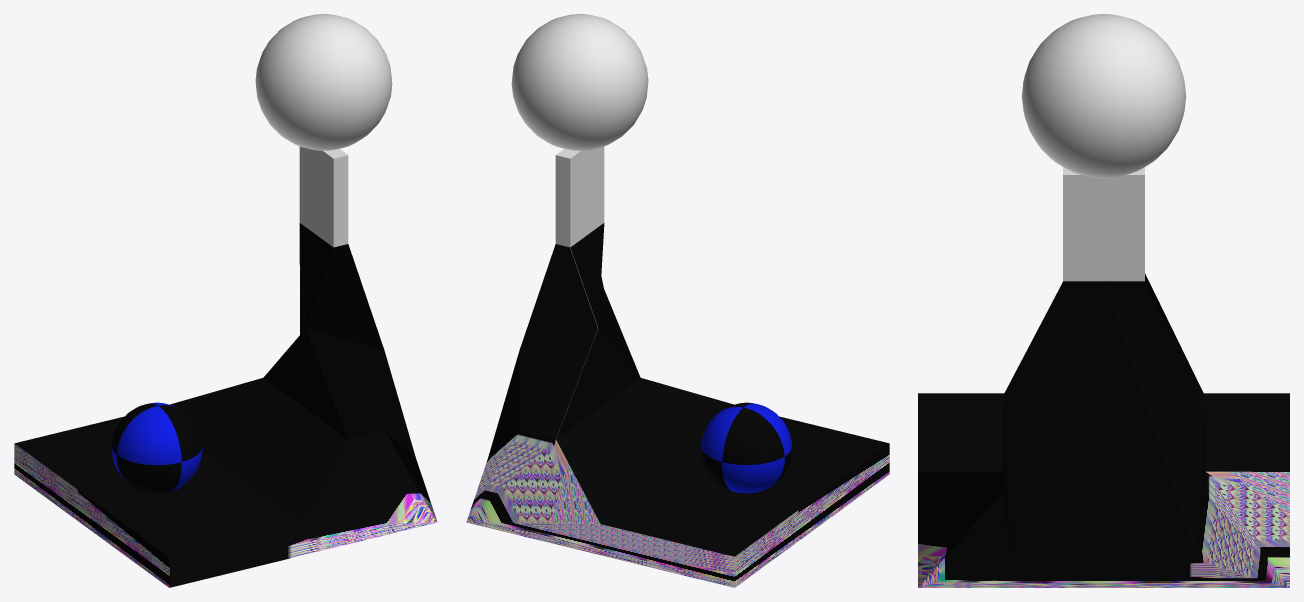
The model's file is Structure.fbx.
3 renders of one model, left to right at view 1: azimuth 30°, elevation 25°; view 2: azimuth 150°, elevation 25°; view 3: azimuth 270°, elevation 25°, orthographic. The views are drawn at different scales.
Visible parts, largest first — view 1: Cube, Sphere.001, Sphere, Cube.001; view 2: Cube, Sphere.001, Sphere, Cube.001; view 3: Cube, Sphere.001, Cube.001.
Boxes of the visible parts, box(x1,y1,x2,y2) form: Cube: box(14, 223, 437, 587); Sphere.001: box(255, 14, 392, 150); Sphere: box(111, 402, 202, 493); Cube.001: box(299, 146, 348, 247); Cube: box(466, 223, 889, 587); Sphere.001: box(511, 14, 648, 150); Sphere: box(701, 402, 792, 493); Cube.001: box(555, 146, 604, 247); Cube: box(918, 273, 1289, 587); Sphere.001: box(1021, 14, 1186, 178); Cube.001: box(1063, 167, 1144, 281).
Size of the model in its own units: 533 by 794 by 491.
Materials: 2 (2 with a texture image).
